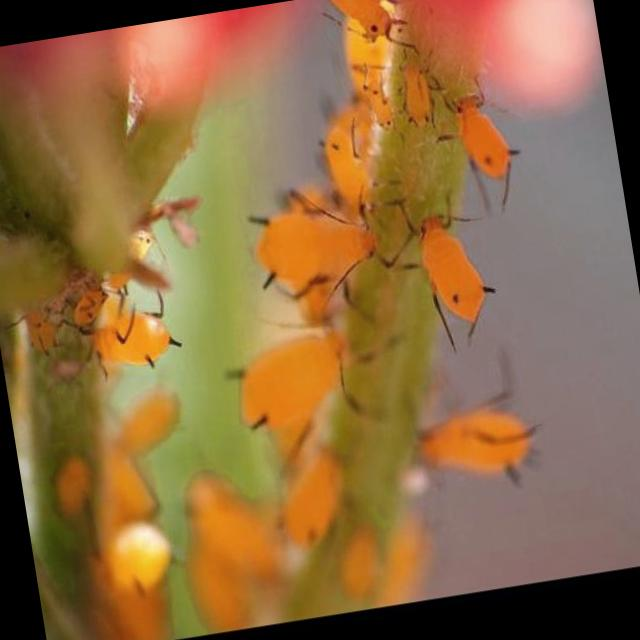aphid: (374, 195, 518, 361), (63, 278, 197, 382), (436, 67, 534, 195)
